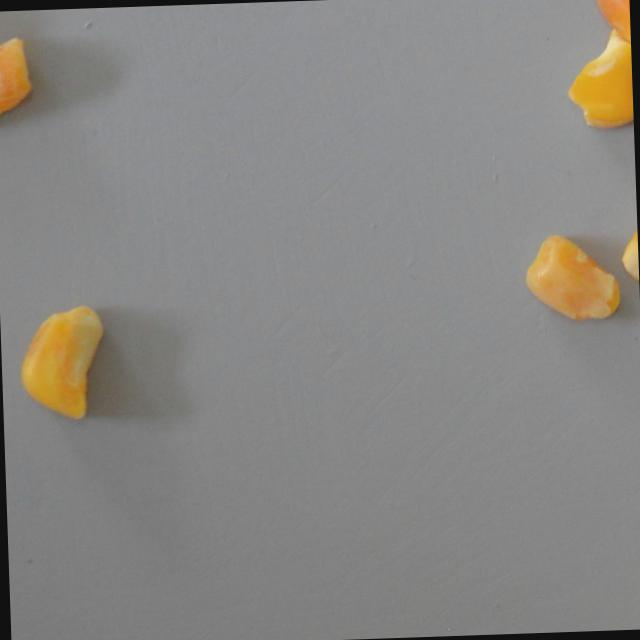dañado: (16, 297, 109, 424), (519, 226, 626, 329), (564, 26, 634, 131), (0, 28, 39, 131), (579, 0, 631, 48), (618, 189, 639, 293)
